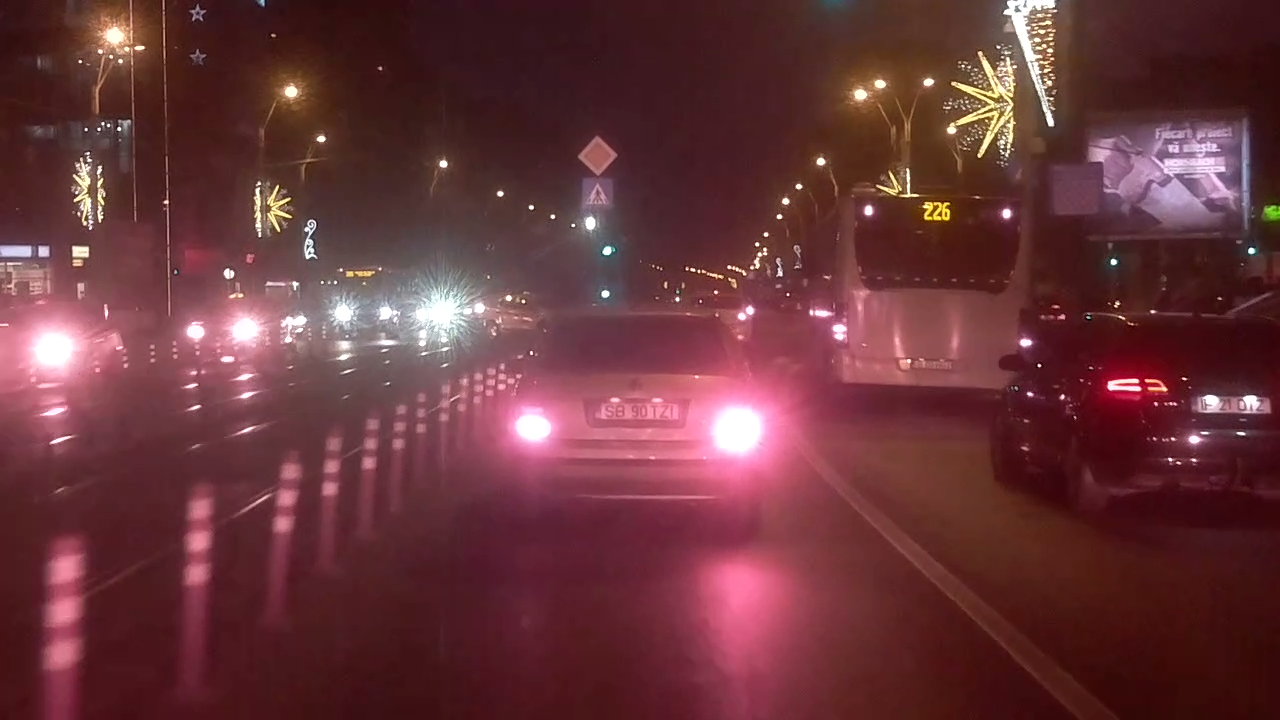license-plate: (1190, 393, 1274, 417), (593, 400, 682, 422)
